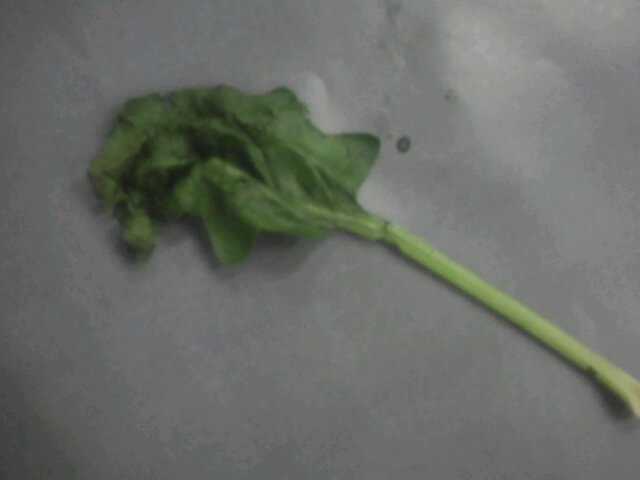yellow: (59, 71, 546, 335)
